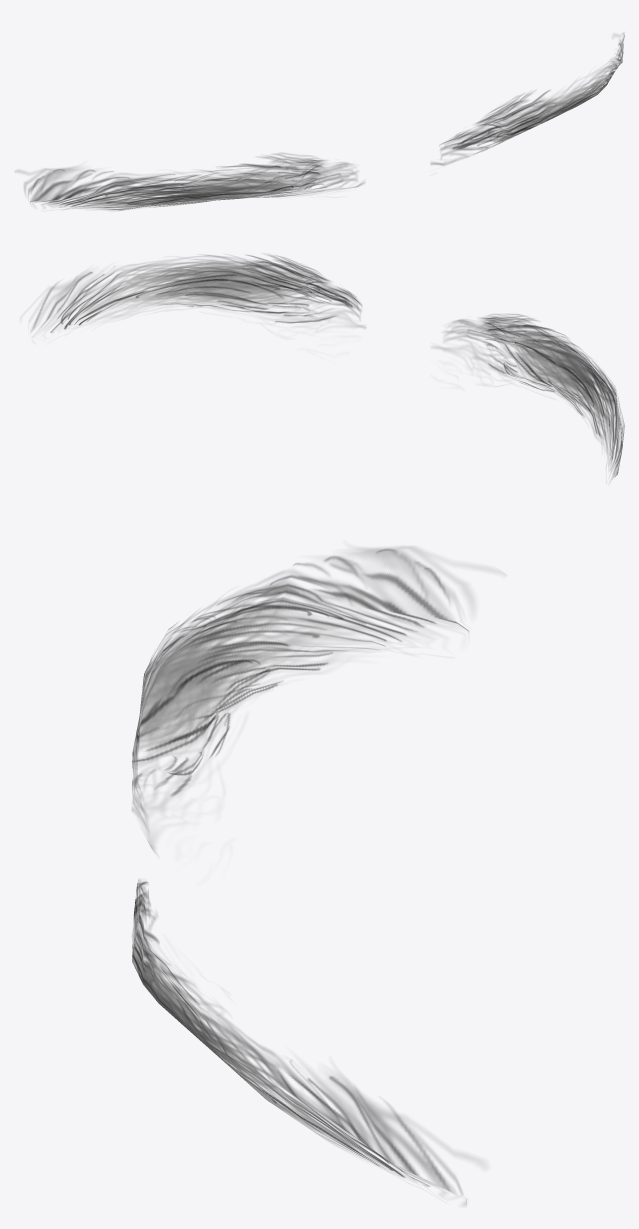
File: brows_eyebrow009.gltf
The picture shows the model from 3 angles, top to bottom: view 1: azimuth 30°, elevation 25°; view 2: azimuth 150°, elevation 25°; view 3: azimuth 270°, elevation 25°; orthographic projection. The views are drawn at different scales.
Parts seen in each view (by area): view 1: brows_eyebrow009; view 2: brows_eyebrow009; view 3: brows_eyebrow009.
Boxes of the visible parts, box(x1,y1,x2,y2) form: brows_eyebrow009: box(15, 32, 624, 210); brows_eyebrow009: box(20, 255, 624, 479); brows_eyebrow009: box(131, 546, 506, 1205).
Bounding box in the file's own units: 0.1193 × 0.0168 × 0.0327.
1 material, 1 textured.
